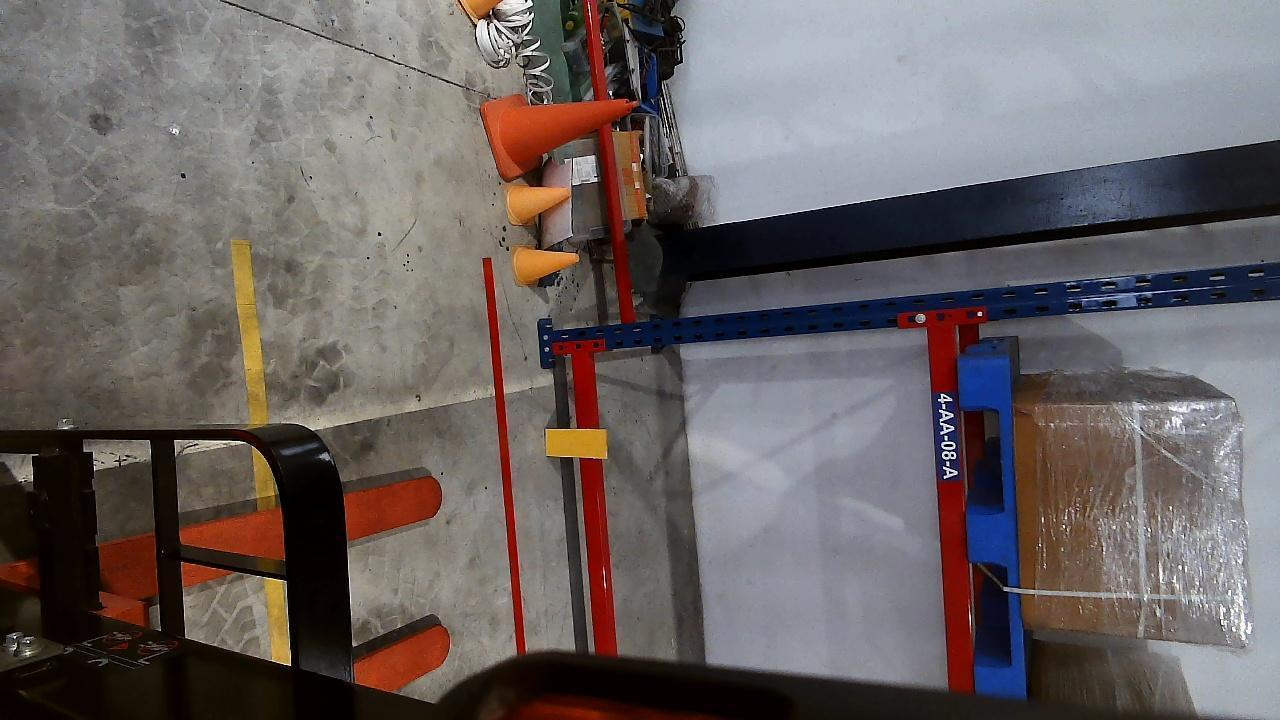red_line: (485, 258, 526, 659)
yellow_line: (228, 239, 268, 424)
